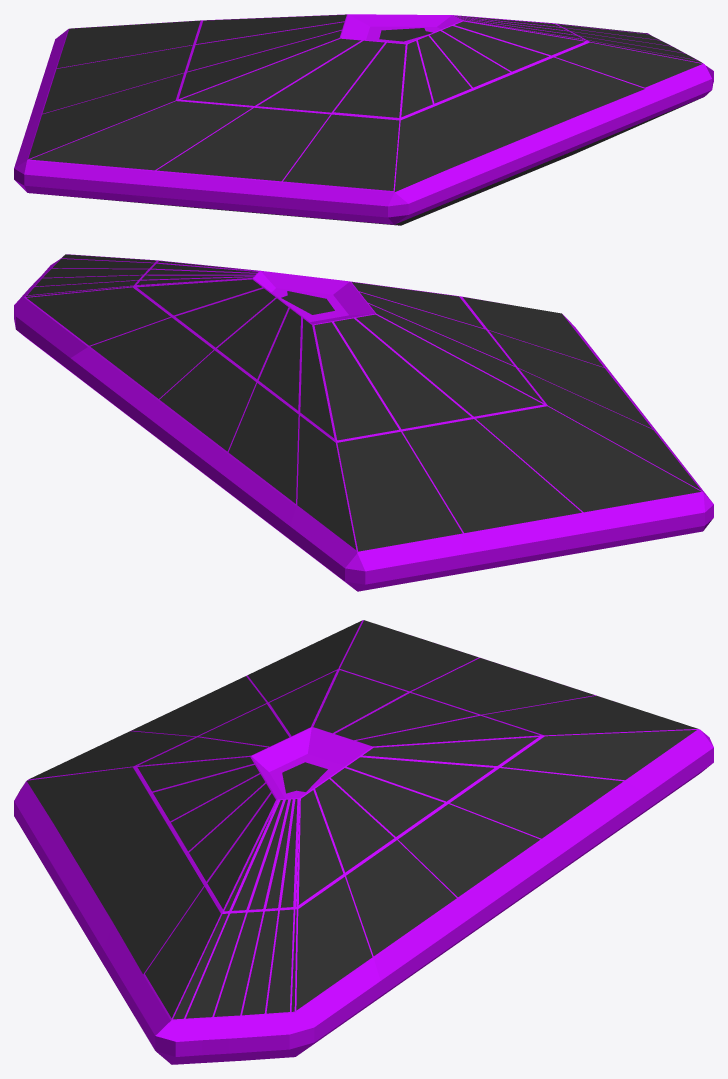
The model's file is BatEye.fbx.
3 views of the same model, one above another, from view 1: azimuth 30°, elevation 25°; view 2: azimuth 150°, elevation 25°; view 3: azimuth 270°, elevation 25° (orthographic). The views are drawn at different scales.
Visible parts, largest first — view 1: Plane; view 2: Plane; view 3: Plane.
Part boxes in pixels (bbox=[...]): Plane: bbox=[14, 14, 713, 225]; Plane: bbox=[14, 254, 713, 591]; Plane: bbox=[14, 620, 713, 1064].
Bounding box in the file's own units: 27.4 × 7 × 19.65.
